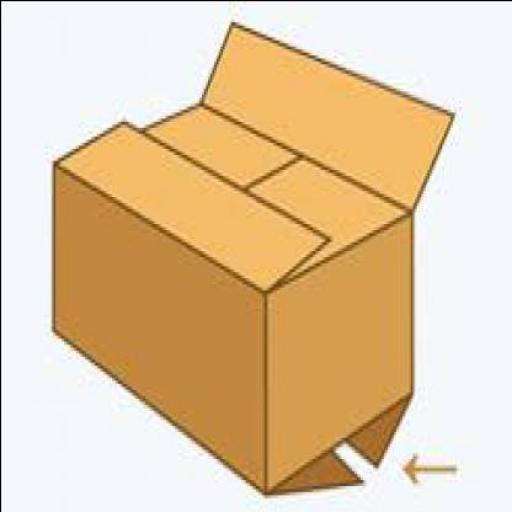cardboard: (52, 12, 456, 491)
